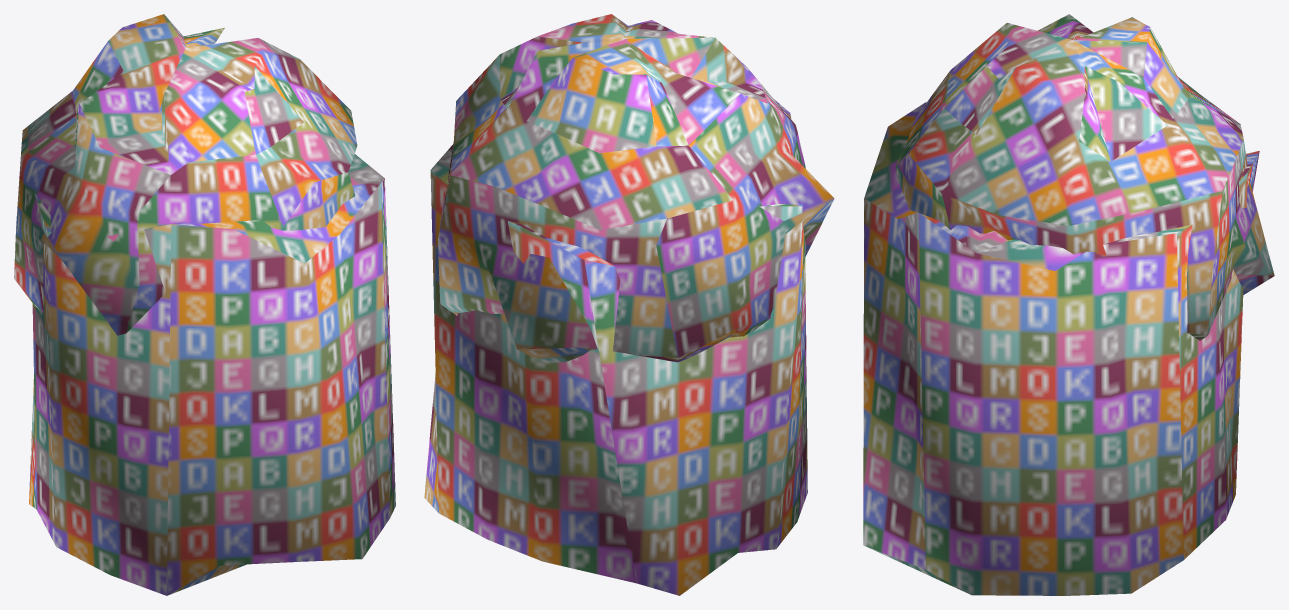
File: Rock_3.obj
3 views of the same model, side by side, from view 1: azimuth 30°, elevation 25°; view 2: azimuth 150°, elevation 25°; view 3: azimuth 270°, elevation 25° (orthographic). The views are drawn at different scales.
Parts seen in each view (by area): view 1: Cylinder5, sphere7; view 2: sphere7, Cylinder5; view 3: Cylinder5, sphere7.
Boxes of the visible parts, <box> form: Cylinder5: <box>29,154,395,595</box>; sphere7: <box>14,14,357,335</box>; sphere7: <box>437,14,834,362</box>; Cylinder5: <box>424,99,807,595</box>; Cylinder5: <box>863,102,1259,595</box>; sphere7: <box>895,14,1274,340</box>.
Bounding box in the file's own units: 2.16 × 2.94 × 2.25.
2 materials, 2 textured.
